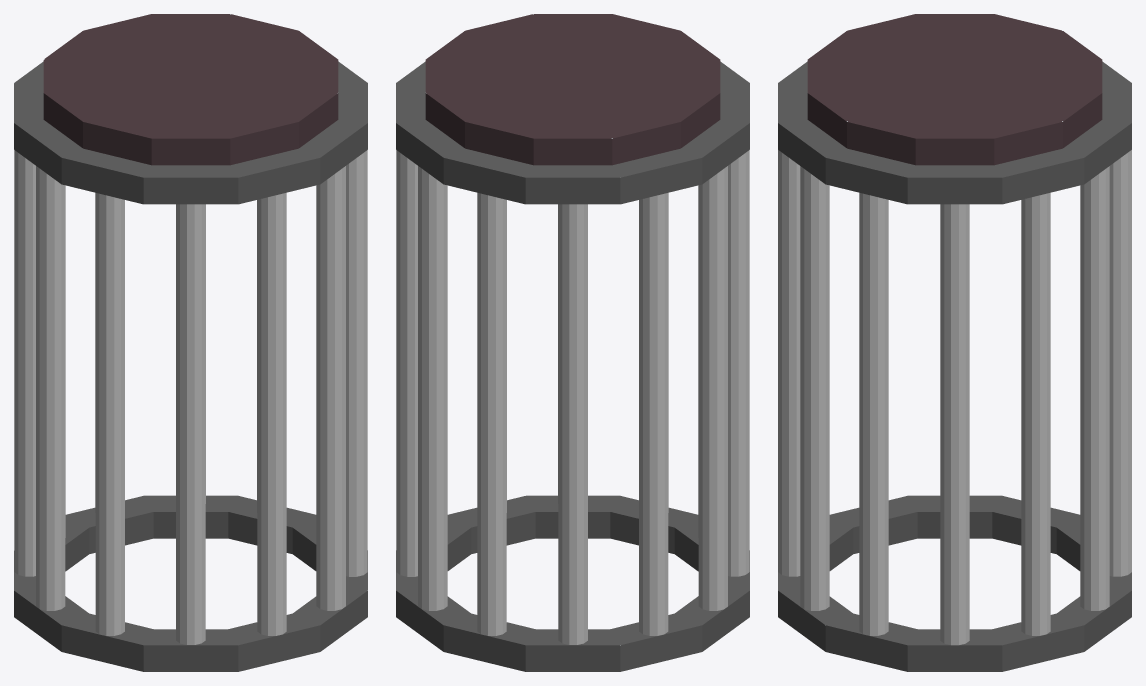
Rendered from cage.gltf.
3 renders of one model, left to right at view 1: azimuth 30°, elevation 25°; view 2: azimuth 150°, elevation 25°; view 3: azimuth 270°, elevation 25°, orthographic.
Parts seen in each view (by area): view 1: cylinder (×8), tube (×2); view 2: cylinder (×8), tube (×2); view 3: cylinder (×8), tube (×2).
Part boxes in pixels (x1=…): cylinder (×8): x1=14, y1=14, x2=367, y2=644; tube (×2): x1=14, y1=61, x2=367, y2=671; cylinder (×8): x1=396, y1=14, x2=749, y2=644; tube (×2): x1=396, y1=61, x2=749, y2=671; cylinder (×8): x1=778, y1=14, x2=1131, y2=645; tube (×2): x1=778, y1=61, x2=1131, y2=671.
Size of the model in its own units: 3 by 4.88 by 3.
1 material, 1 textured.
